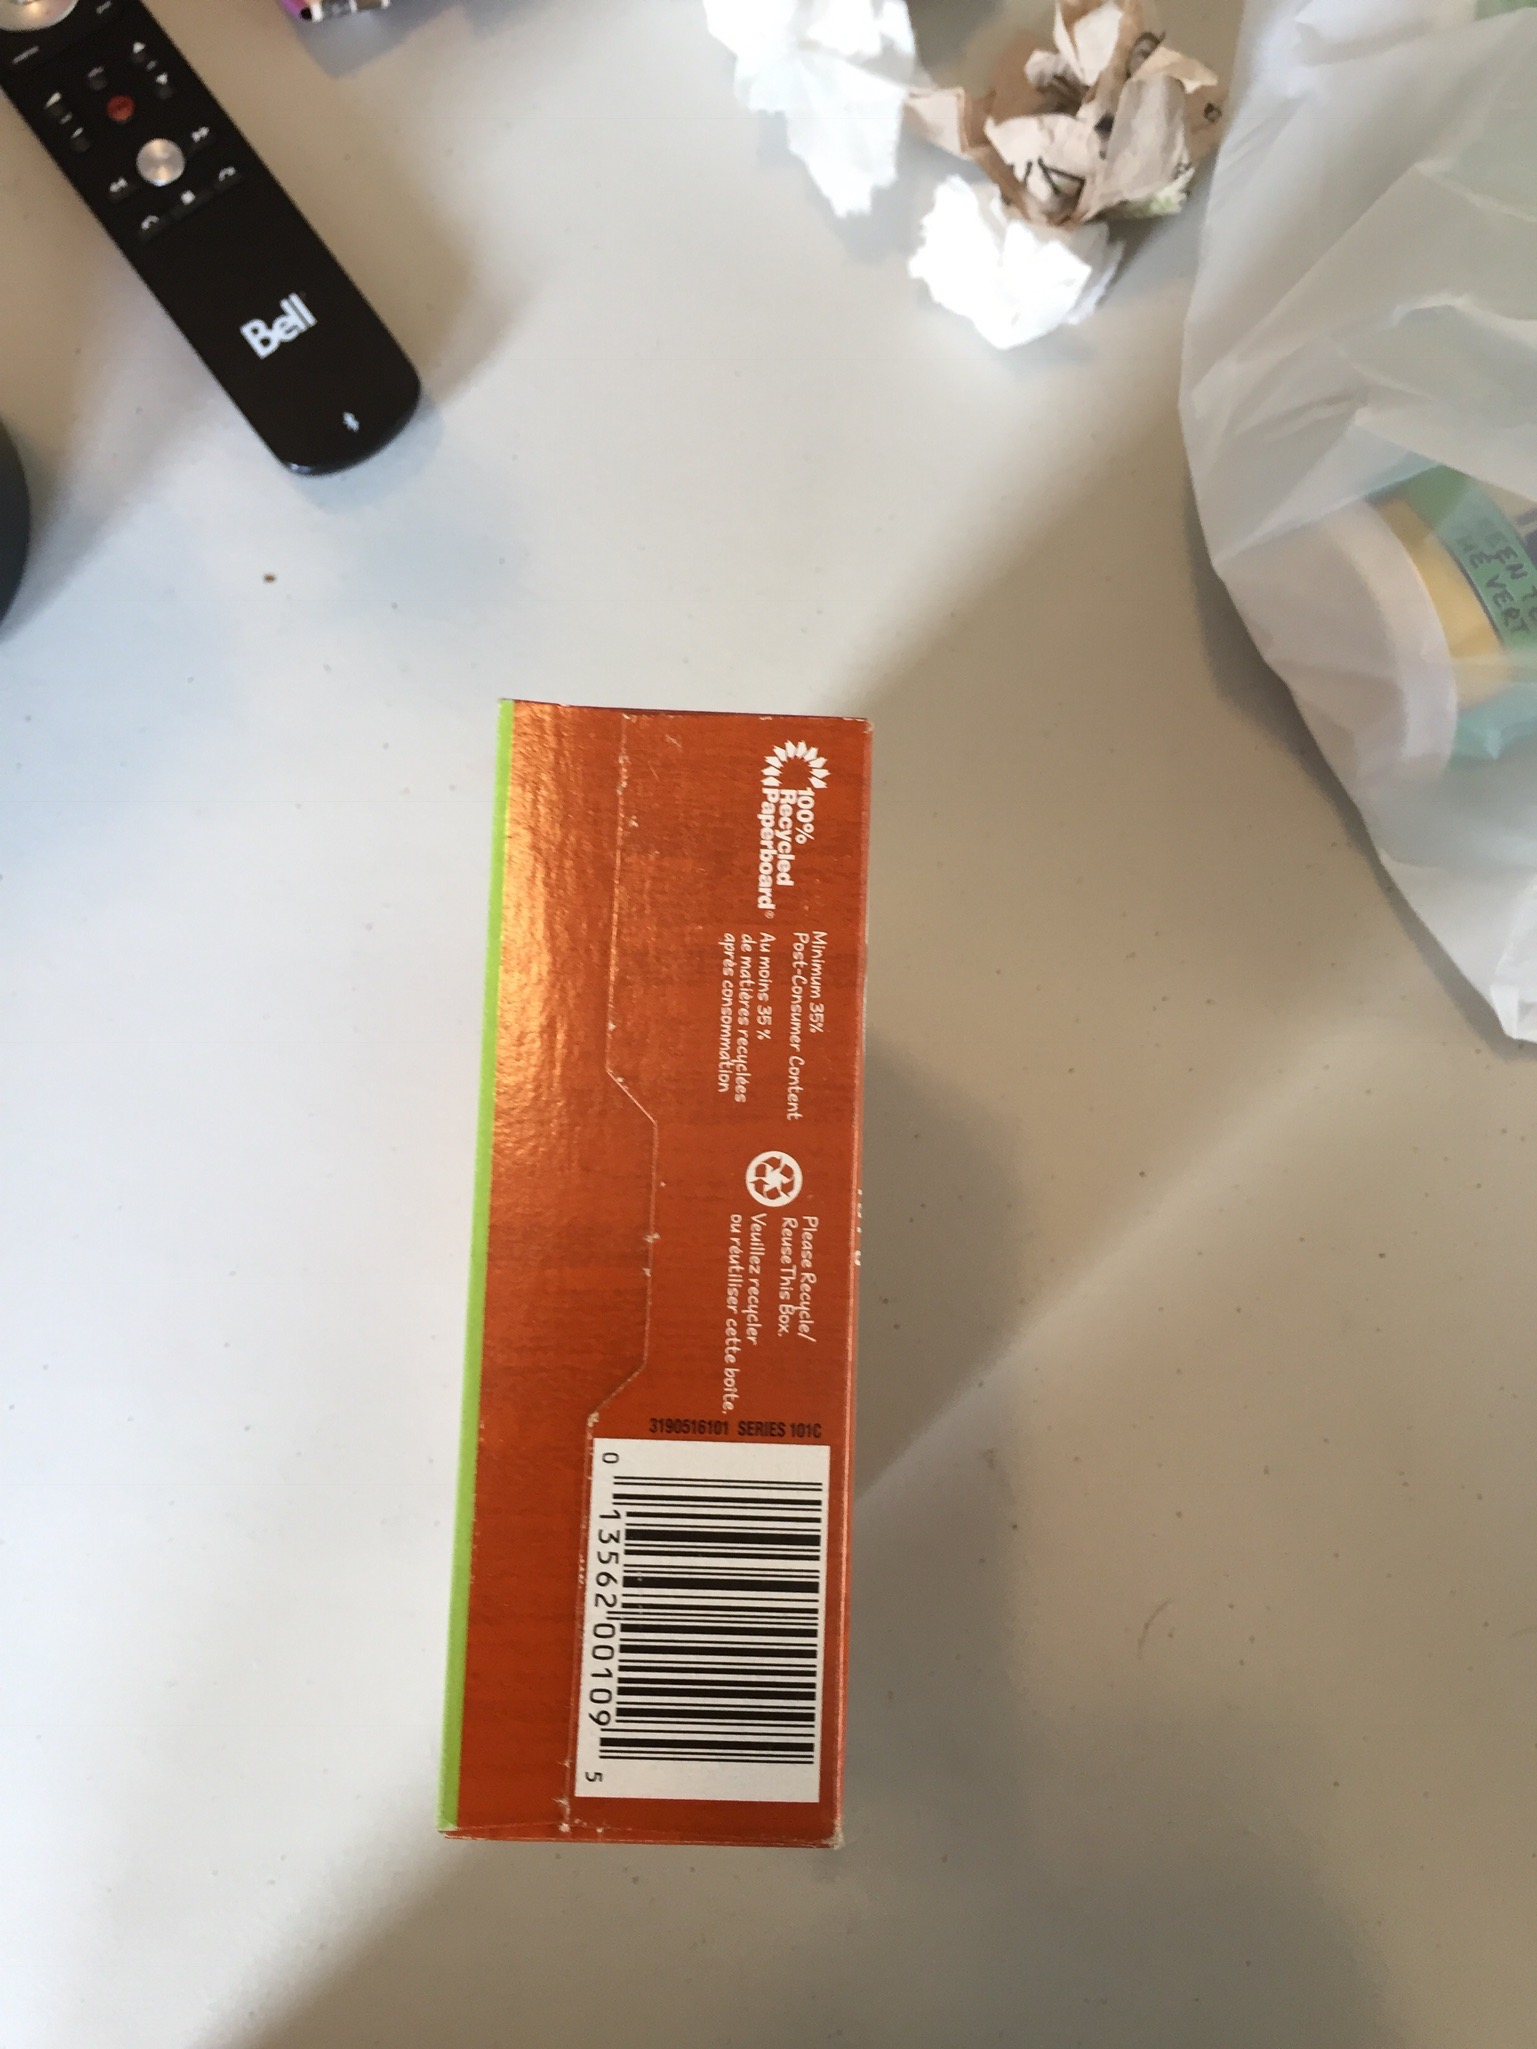annies_snickerdoodle_cinnamon_sugar: (515, 710, 823, 1855)
